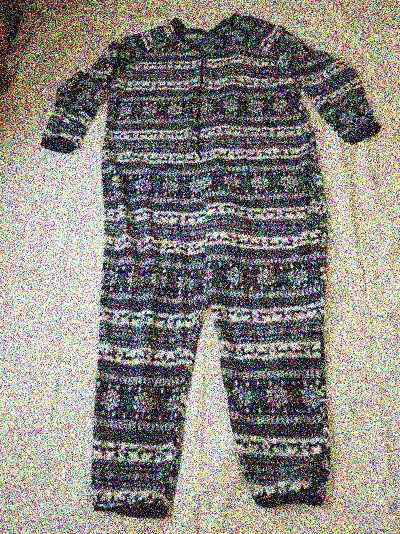Body: (24, 15, 389, 517)
